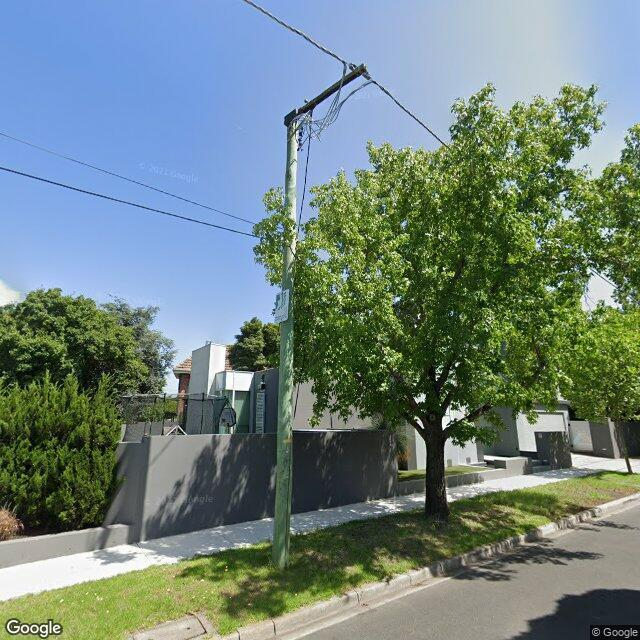crossarm: (284, 62, 368, 124)
timber-pole: (271, 120, 298, 570)
